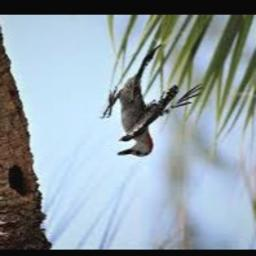Woodpecker: (101, 45, 204, 156)
